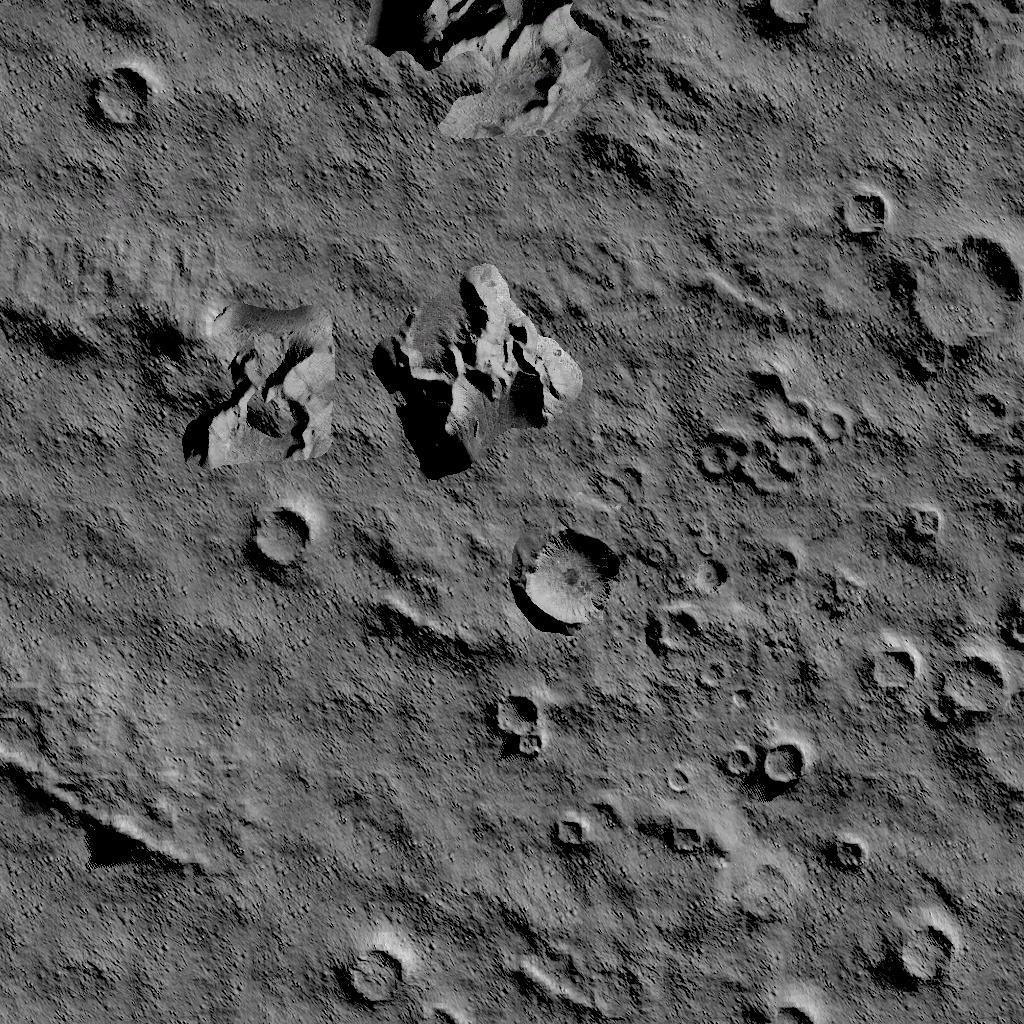Boulders: (0, 248, 339, 470), (375, 0, 686, 203), (380, 264, 584, 480), (0, 746, 214, 868), (358, 526, 494, 654)
Crater: (865, 598, 1024, 810), (898, 234, 1024, 446), (680, 360, 856, 508), (508, 510, 626, 638), (338, 926, 470, 1024), (242, 490, 330, 592), (646, 549, 726, 653), (873, 908, 961, 1000), (82, 62, 164, 149), (718, 724, 811, 794), (482, 684, 550, 760), (824, 181, 888, 256), (724, 973, 818, 1024), (734, 0, 828, 47), (820, 822, 868, 878), (656, 810, 707, 862), (899, 496, 948, 548), (546, 807, 590, 852)
Plan surface: (4, 880, 324, 1024), (5, 500, 232, 695), (245, 668, 449, 855), (194, 6, 348, 228), (727, 68, 1024, 164)
